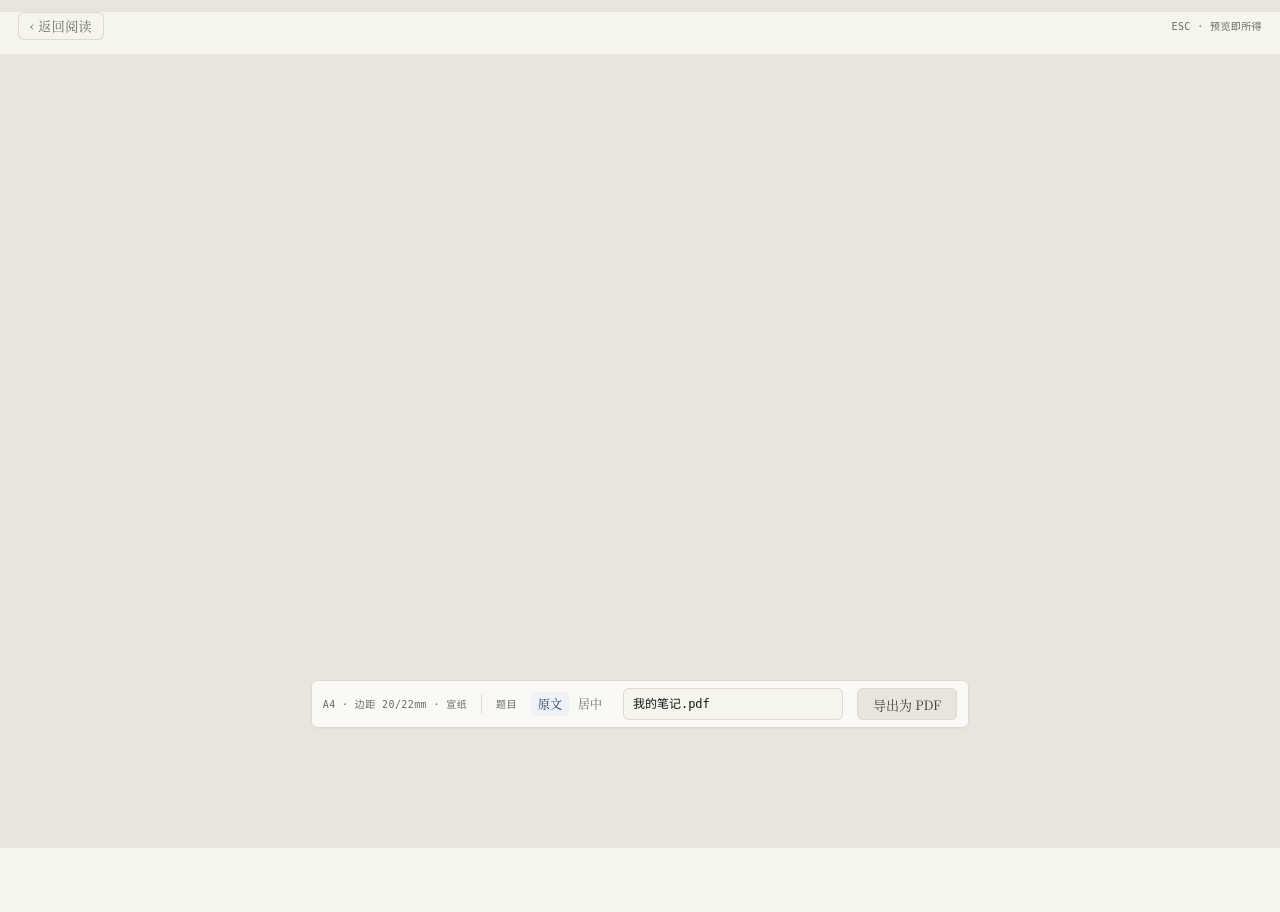
Test: 导出：保存对话框选定路径后调后端 export_pdf，状态行回报落盘位置
Click the button "导出为 PDF" at (907, 704), box [857,688,957,720]
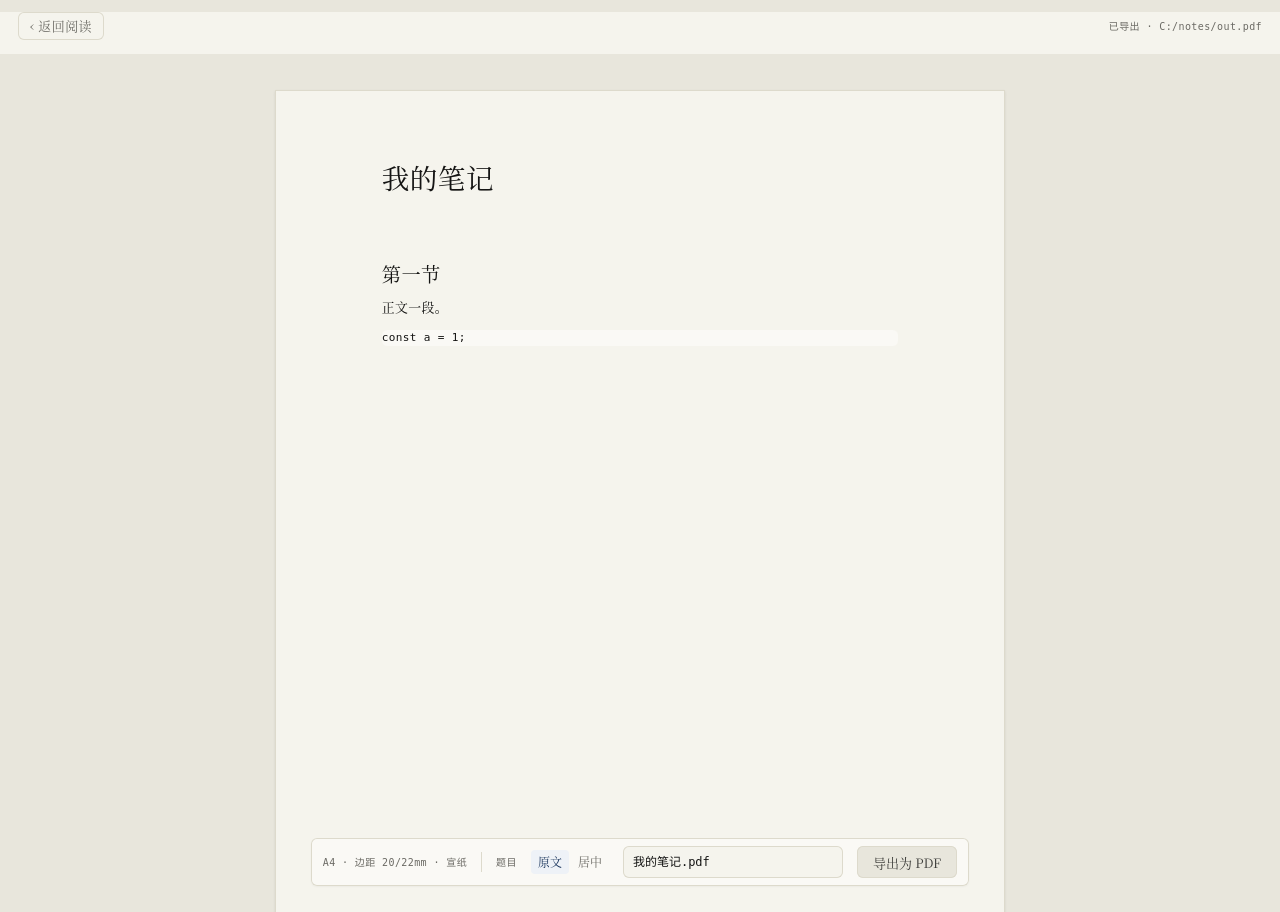
Check: the text "已导出 · C:/notes/out.pdf" is shown, box [1109,18,1262,34]
